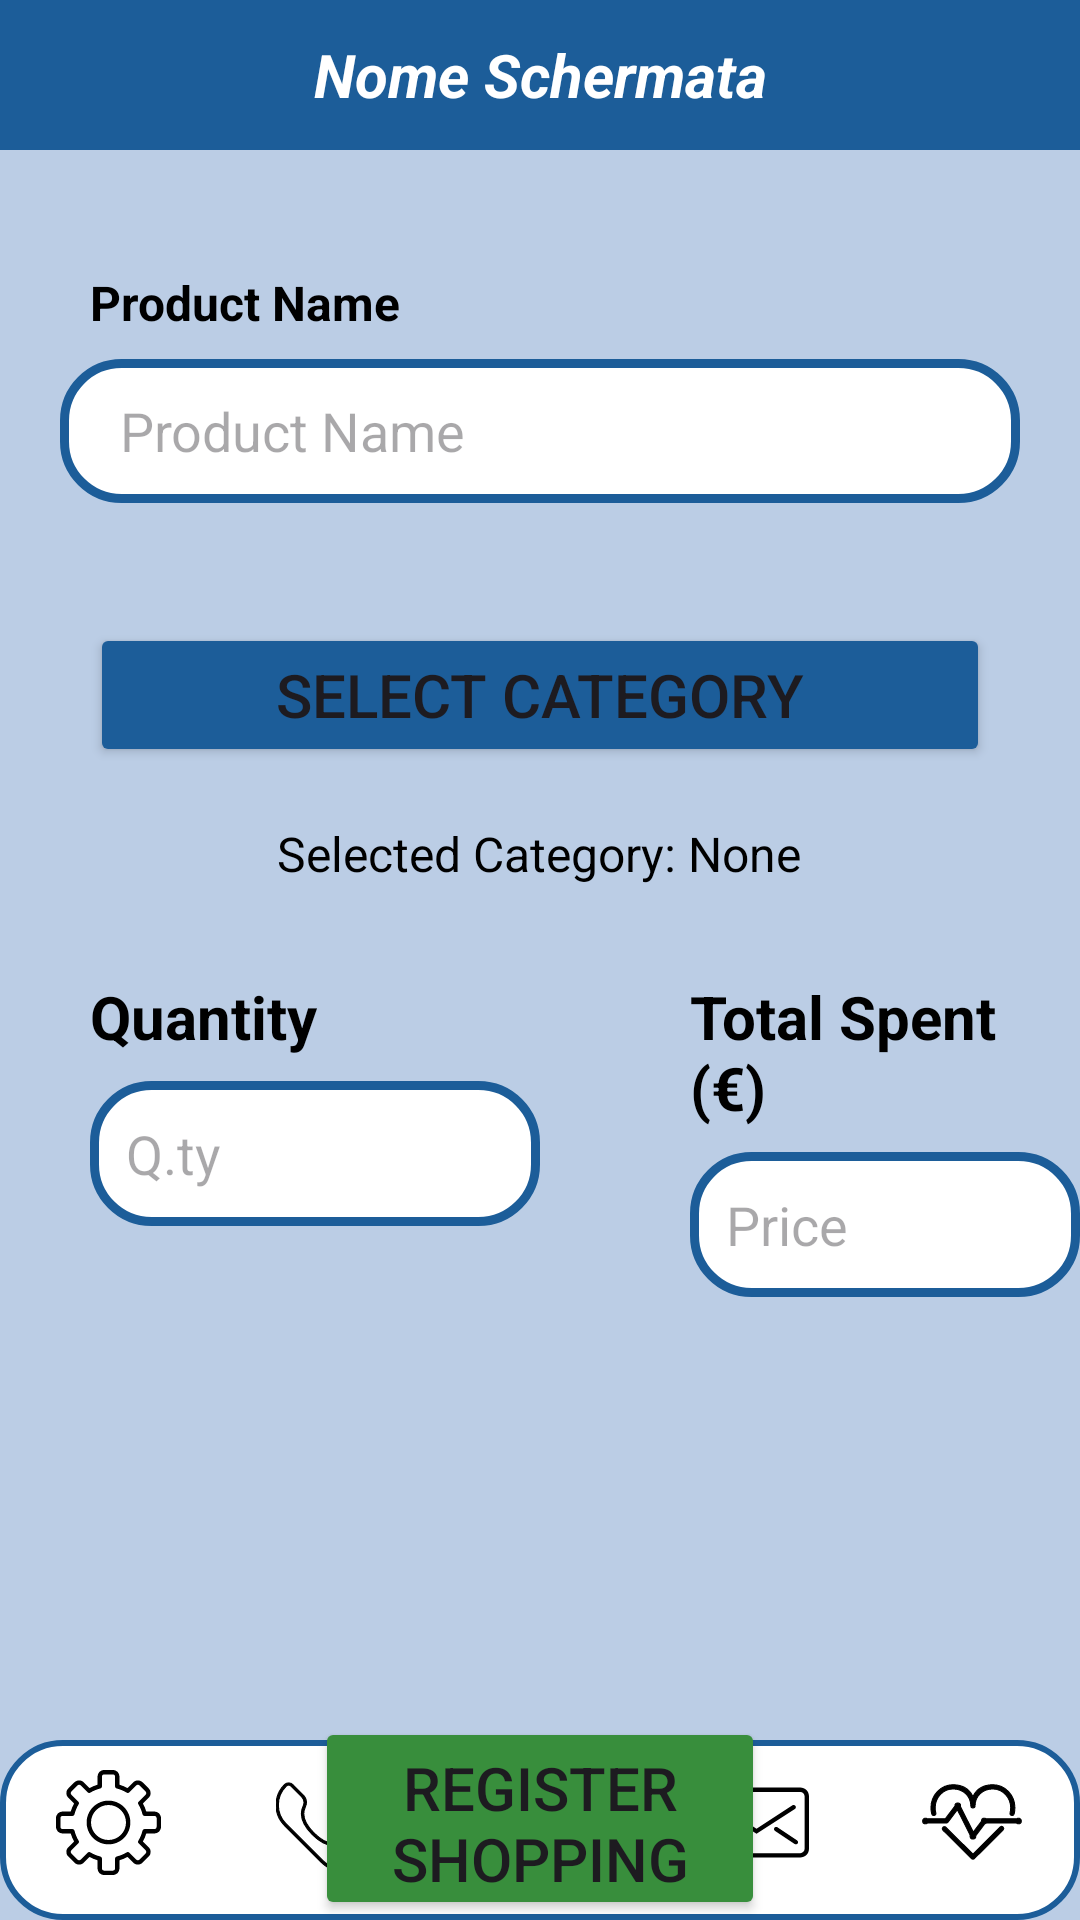

Icon click points for this 1080x1920 phone screenshot, format (x,y):
misurazioni: (972,1822)
setting: (108,1822)
